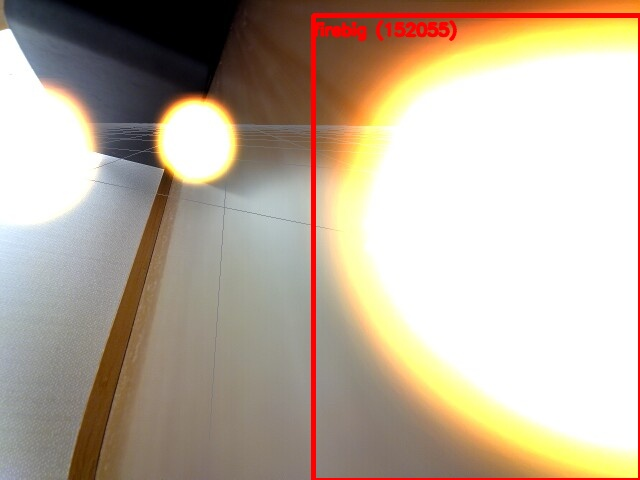firebig: (313, 15, 640, 480)
